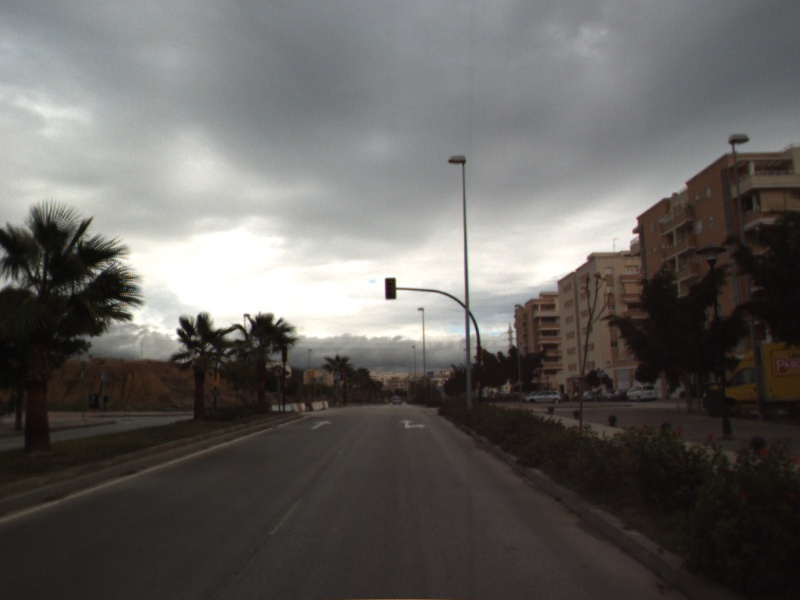STRAIGHT: (309, 418, 334, 431)
STRAIGHT_RIGHT: (397, 417, 427, 431)
